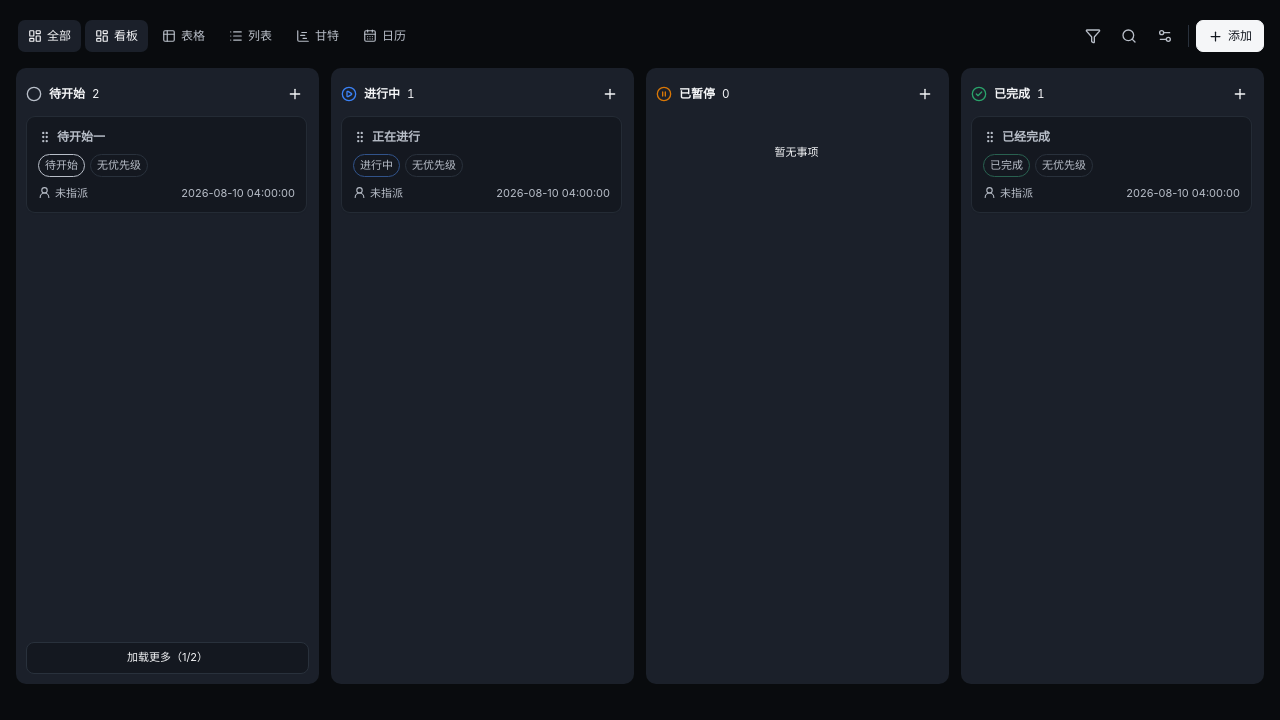
Scenario: WorkBuddy cloud plan workspace › loads four status columns independently and shows cloud total counts
Expected: the text "待开始一" is shown, [57,129,105,144]
Expected: the list item "待开始一" is shown, [27,117,306,212]
Step 1. Click the button "加载更多（1/2）" → point(168, 658), box [26,642,309,674]
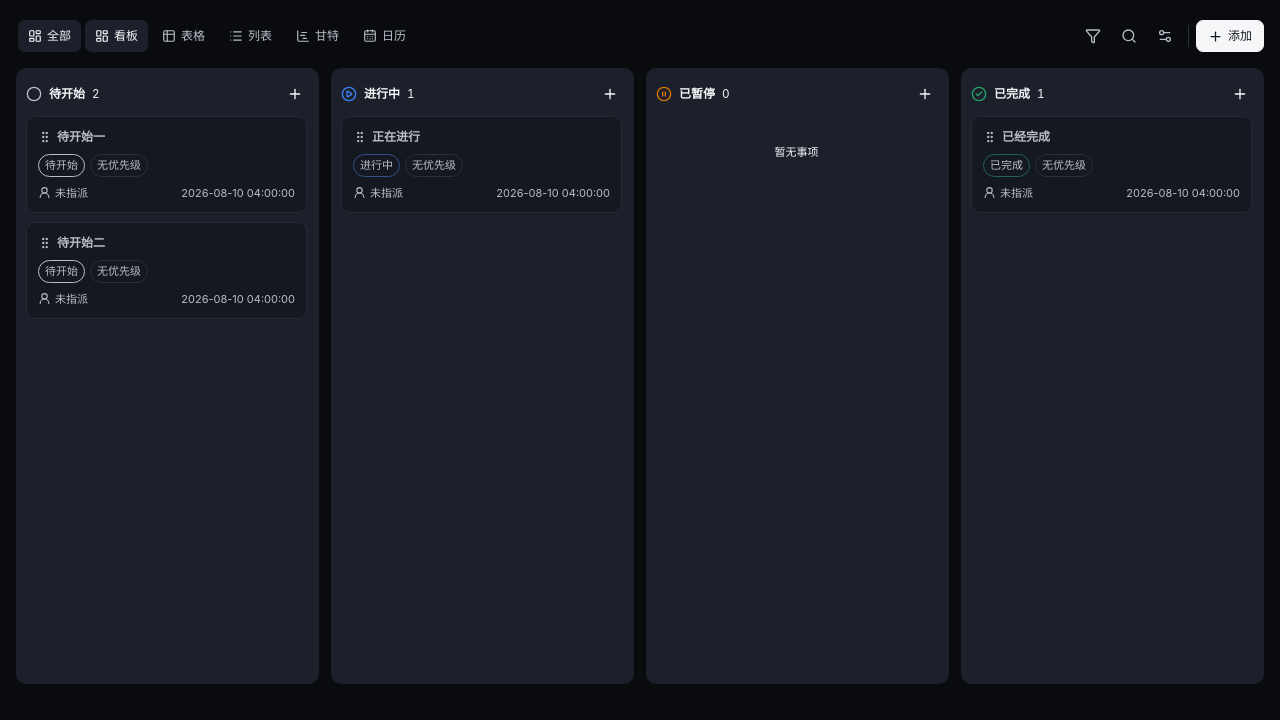
Now the text "待开始二" is shown, box [57,235,105,250]
